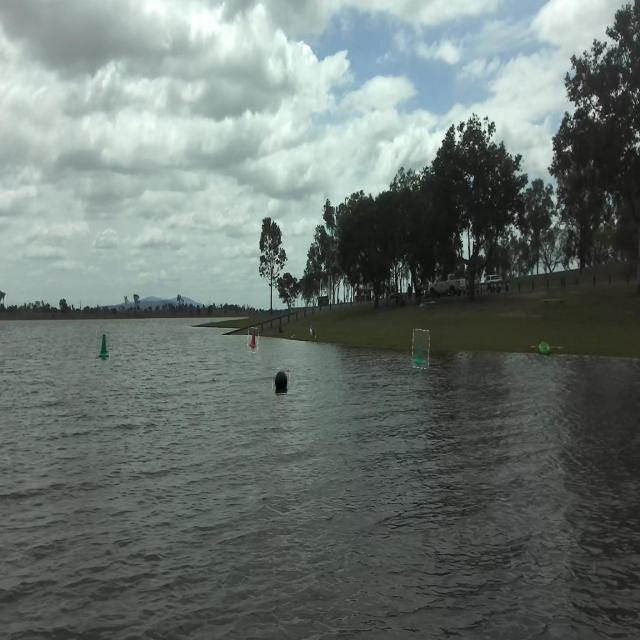Black_Buoy: (270, 367, 296, 401)
Green_Buoy: (96, 327, 112, 360)
Red_Buoy: (250, 330, 260, 352)
White_Buoy: (412, 332, 428, 374)
